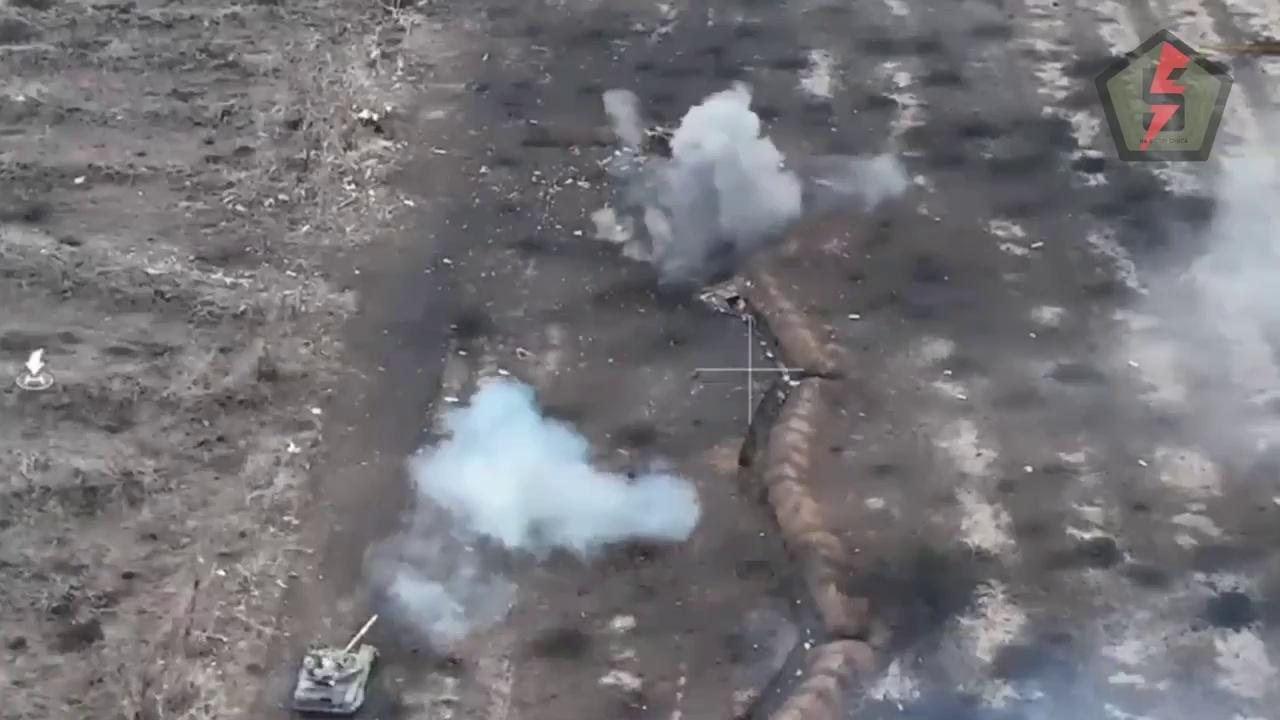trench: (696, 241, 874, 720)
vehicle: (286, 611, 388, 716)
